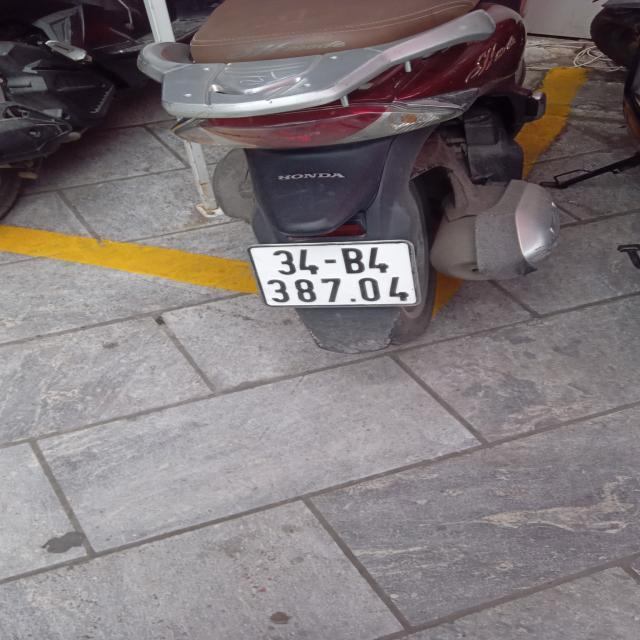license: (247, 239, 417, 307)
